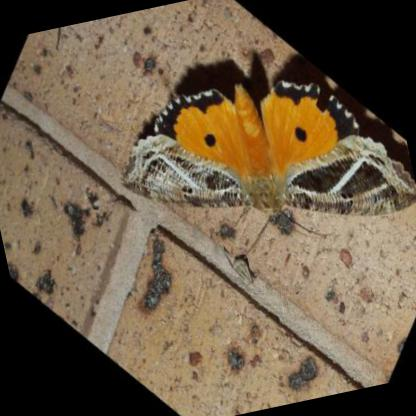fruit sucking moth: (122, 80, 415, 232)
